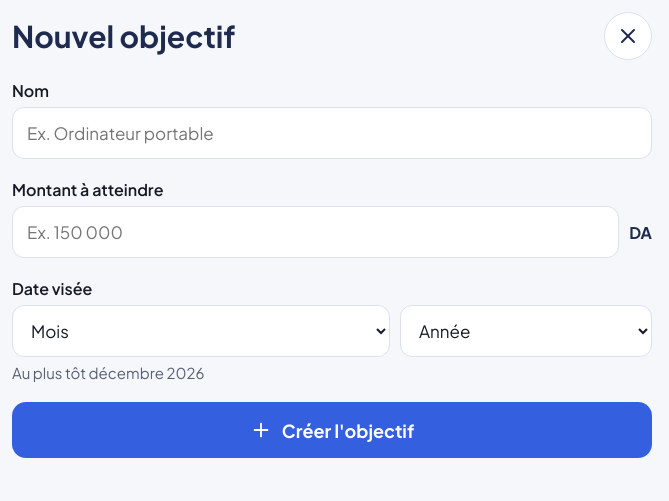
Test case: GoalForm (création) › mois sans année : erreur au champ Date visée
Type "Vacances" into the field labelled "Nom" at (332, 133), box [12, 107, 652, 159]
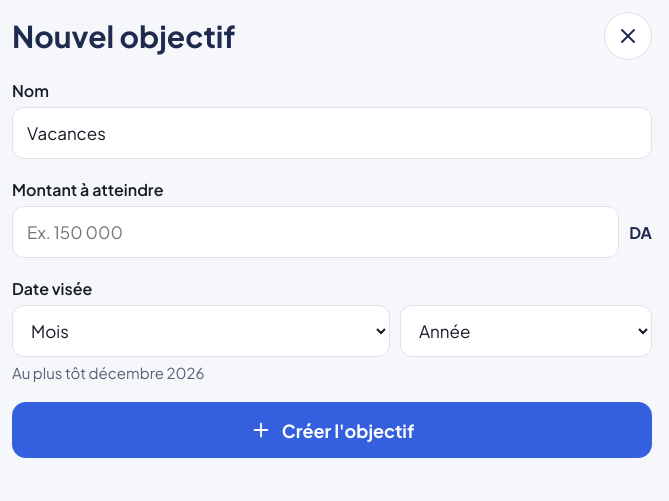
Type "40000" into the field labelled "Montant à atteindre" at (316, 232), box [12, 206, 619, 258]
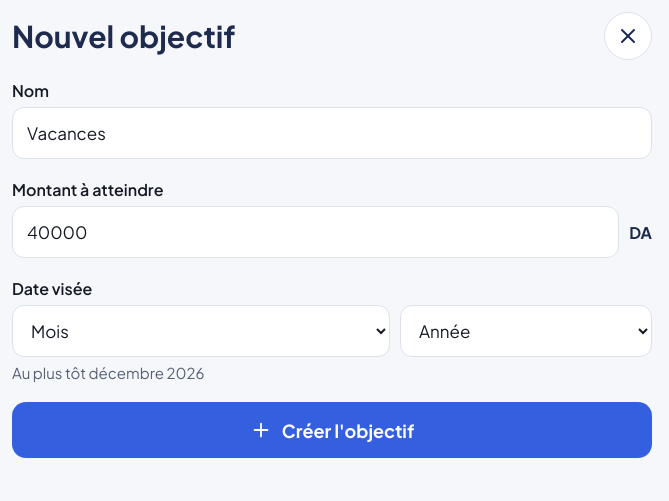
Select "juillet" in the dropdown named "Mois visé" at (201, 331), box [12, 305, 390, 357]
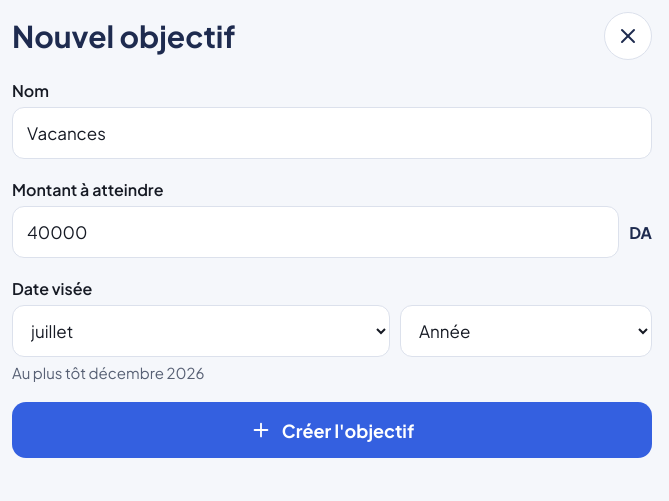
Click the button "Créer l'objectif" at (332, 430), box [12, 402, 652, 458]
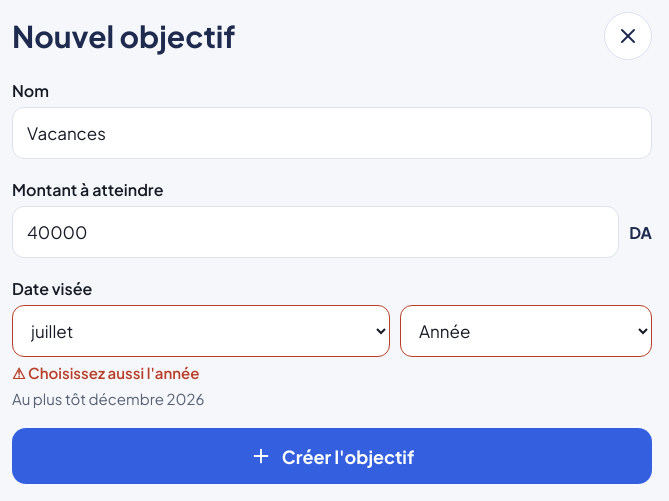
Check: the text "Choisissez aussi l'année" is shown, box [28, 363, 199, 382]
